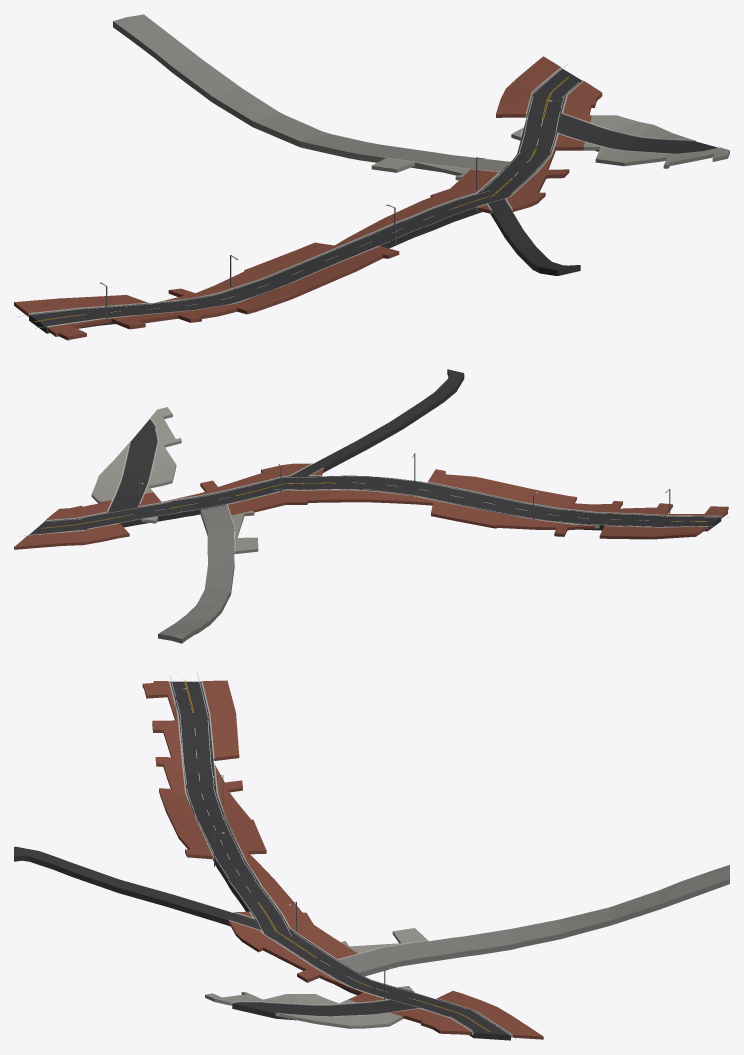
The picture shows the model from 3 angles, top to bottom: view 1: azimuth 30°, elevation 25°; view 2: azimuth 150°, elevation 25°; view 3: azimuth 270°, elevation 25°; orthographic projection. The views are drawn at different scales.
Bounding box in the file's own units: 152 × 18.72 × 146.
